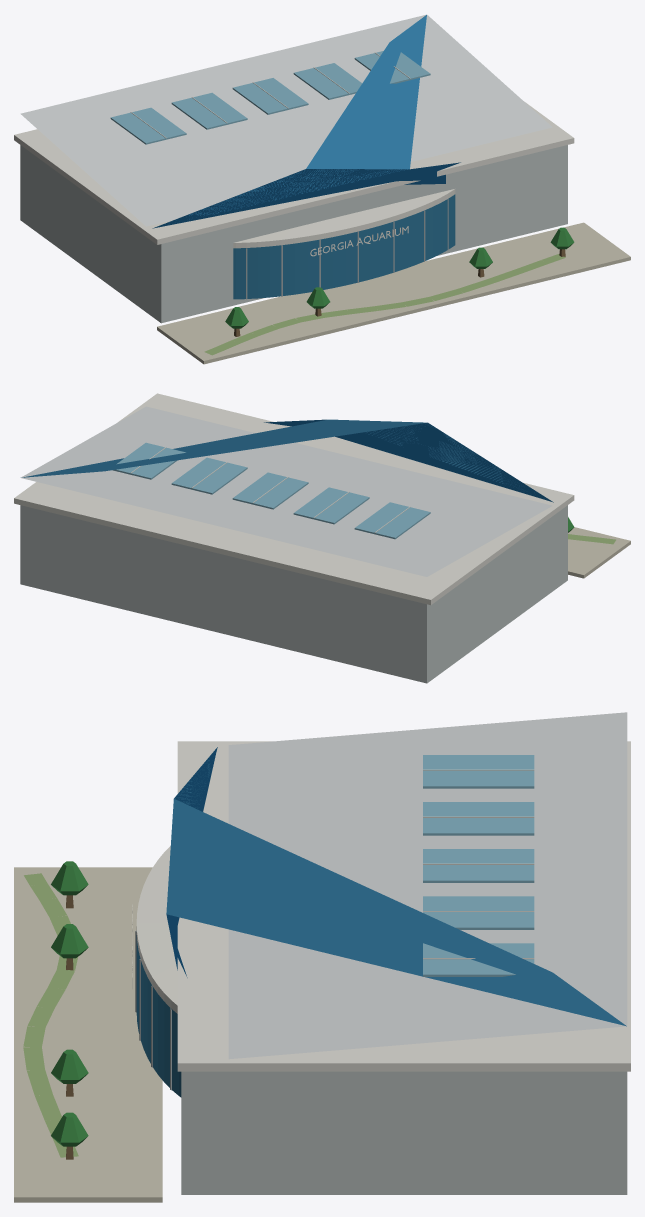
File: aquarium.glb
3 renders of one model, top to bottom at view 1: azimuth 30°, elevation 25°; view 2: azimuth 150°, elevation 25°; view 3: azimuth 270°, elevation 25°, orthographic. The views are drawn at different scales.
Parts seen in each view (by area): view 1: aquarium-blue-sails; view 2: aquarium-blue-sails; view 3: aquarium-blue-sails.
Part boxes in pixels (x1,y1,x2,y2): aquarium-blue-sails: (14, 14, 630, 364); aquarium-blue-sails: (14, 393, 630, 683); aquarium-blue-sails: (14, 712, 630, 1202).
Bounding box in the file's own units: 21 × 5.7 × 16.6.
